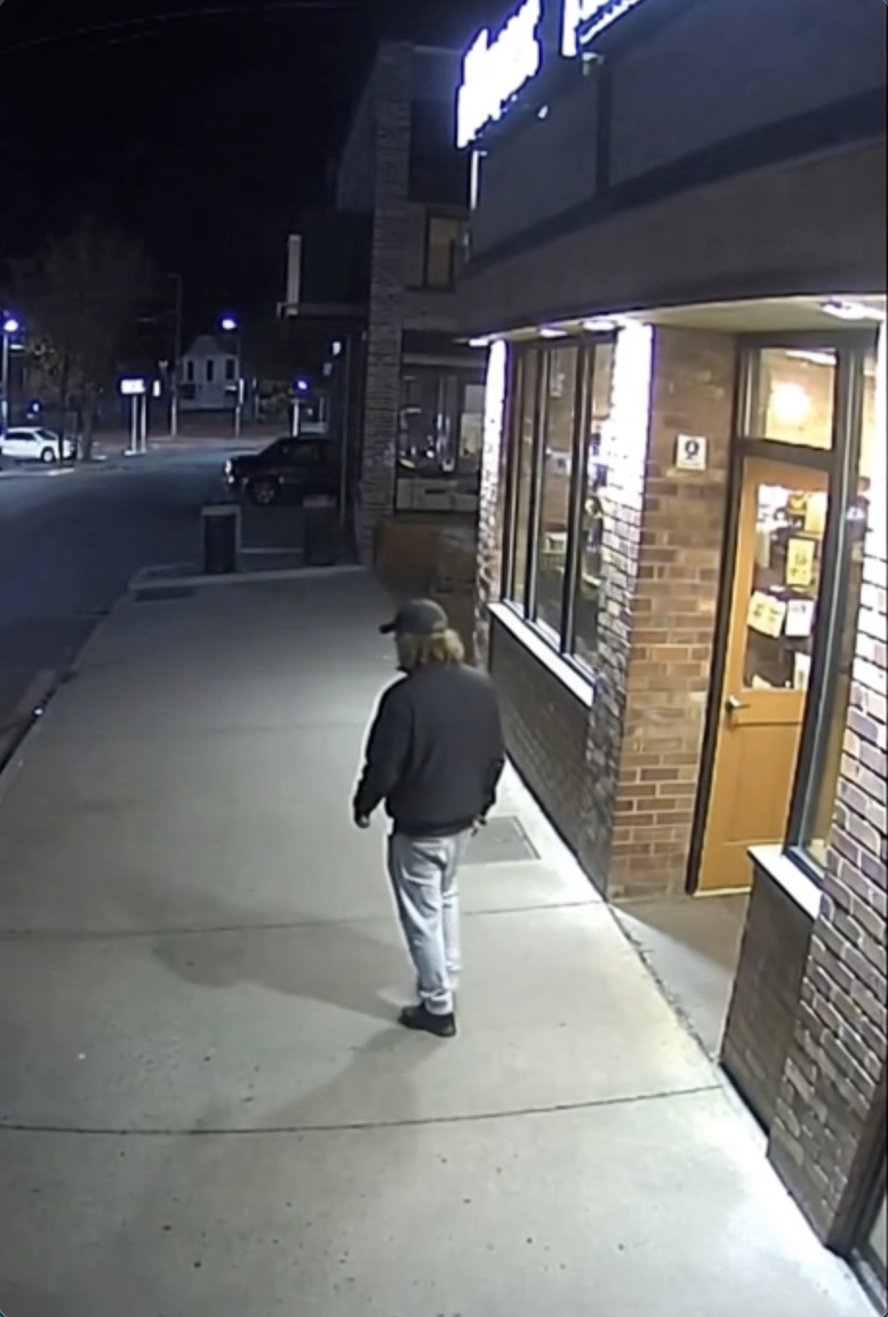Heavy Gun: (335, 596, 508, 1043)
